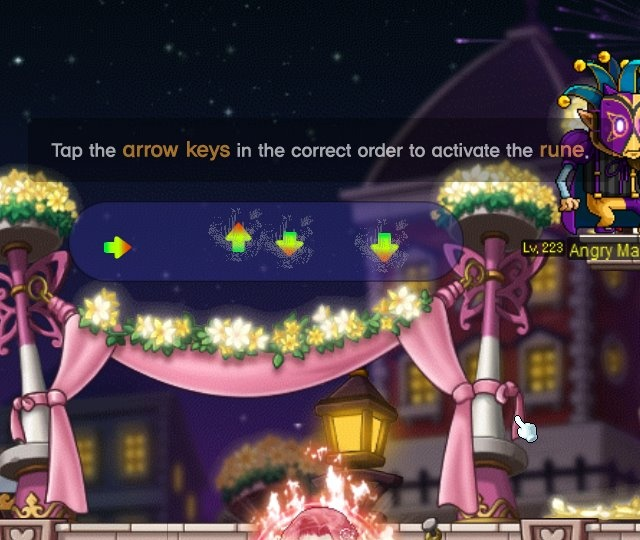rune_box: (58, 194, 478, 293)
